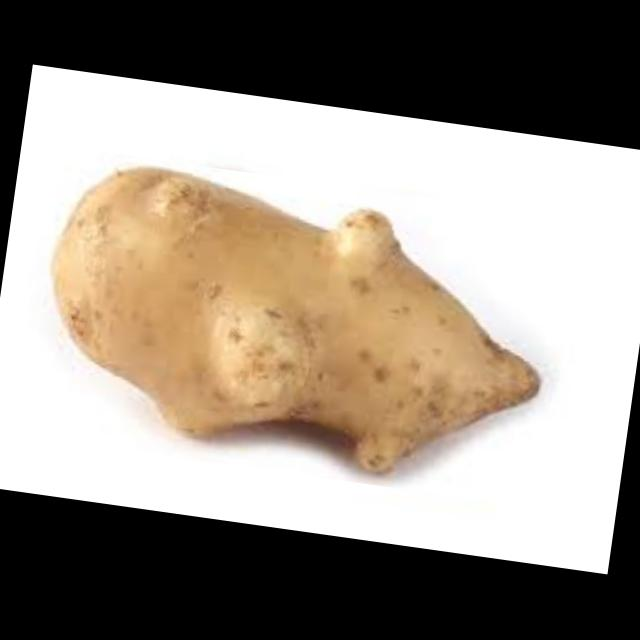Damaged potato: (11, 145, 588, 510)
